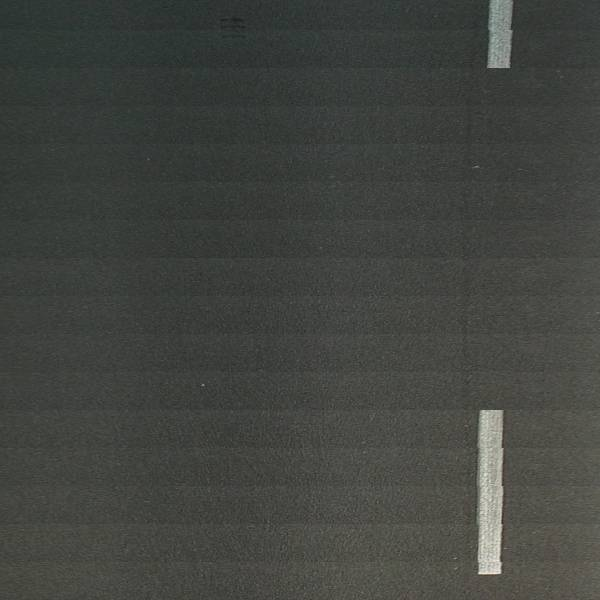road_damage: (217, 14, 248, 43)
